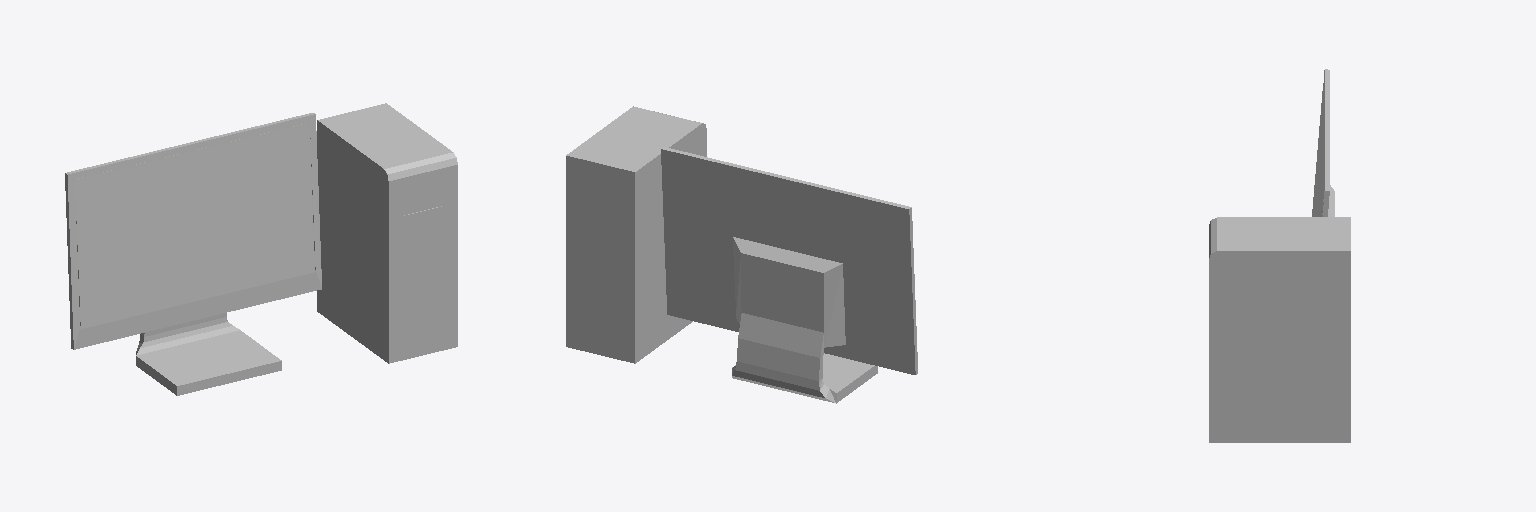
File: computer2.obj
3 renders of one model, left to right at view 1: azimuth 30°, elevation 25°; view 2: azimuth 150°, elevation 25°; view 3: azimuth 270°, elevation 25°, orthographic.
Visible parts, largest first — view 1: computer, Fläche; view 2: computer; view 3: computer, Fläche.
Boxes of the visible parts, <box> form: computer: <box>65,103,457,395</box>; Fläche: <box>75,123,314,328</box>; computer: <box>566,106,917,403</box>; computer: <box>1209,69,1350,442</box>; Fläche: <box>1312,91,1322,216</box>.
Bounding box in the file's own units: 5.37 × 3.26 × 2.